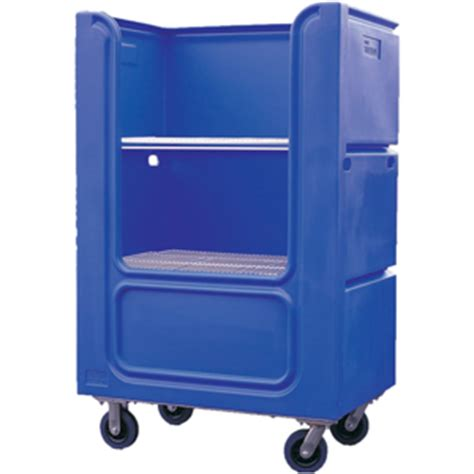Carts: (74, 2, 402, 472)
